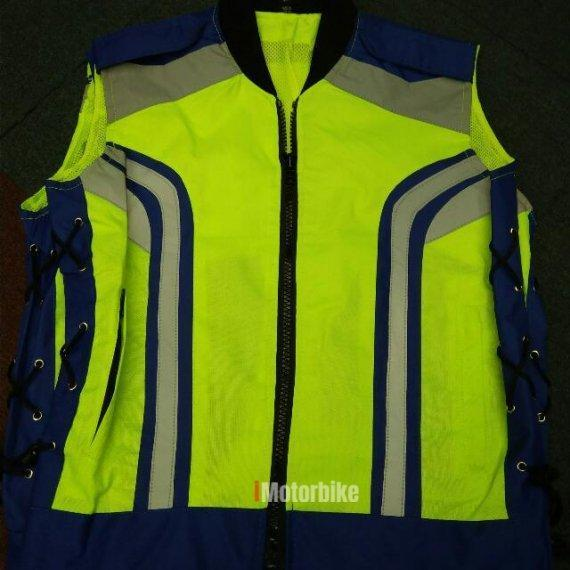vest: (17, 0, 555, 568)
